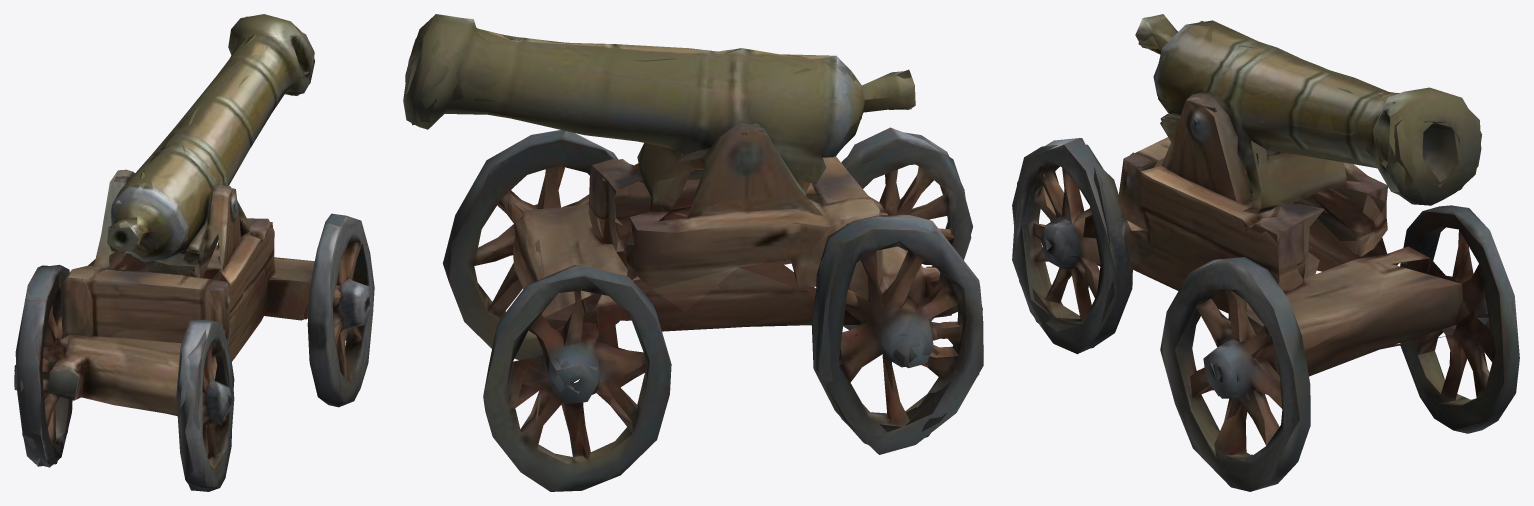
Rendered from cannon.glb.
The picture shows the model from 3 angles, left to right: view 1: azimuth 30°, elevation 25°; view 2: azimuth 150°, elevation 25°; view 3: azimuth 270°, elevation 25°; orthographic projection. The views are drawn at different scales.
Parts seen in each view (by area): view 1: level; view 2: level; view 3: level.
Boxes of the visible parts, x1,y1,x2,y2 form: level: (14, 14, 374, 491); level: (403, 14, 983, 491); level: (1012, 14, 1519, 491).
Size of the model in its own units: 0.9038 by 0.7355 by 0.8381.
Materials: 1 (1 with a texture image).
